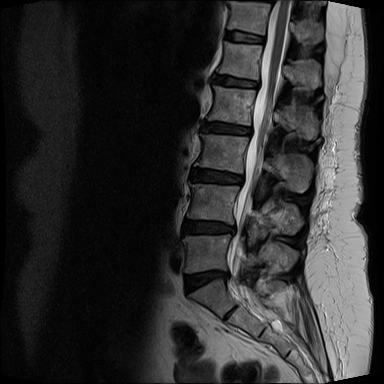Lumbar Disc Bulge (LDB): (177, 266, 235, 300), (179, 212, 238, 238), (191, 163, 247, 190), (210, 67, 262, 93), (202, 118, 254, 140)
Normal IVD: (221, 27, 271, 46)
Spinal Stenosis (SS): (234, 169, 251, 190), (218, 267, 236, 285), (243, 123, 259, 141), (227, 221, 242, 239), (251, 76, 267, 90)
Spondylolisthesis: (165, 247, 251, 320)
